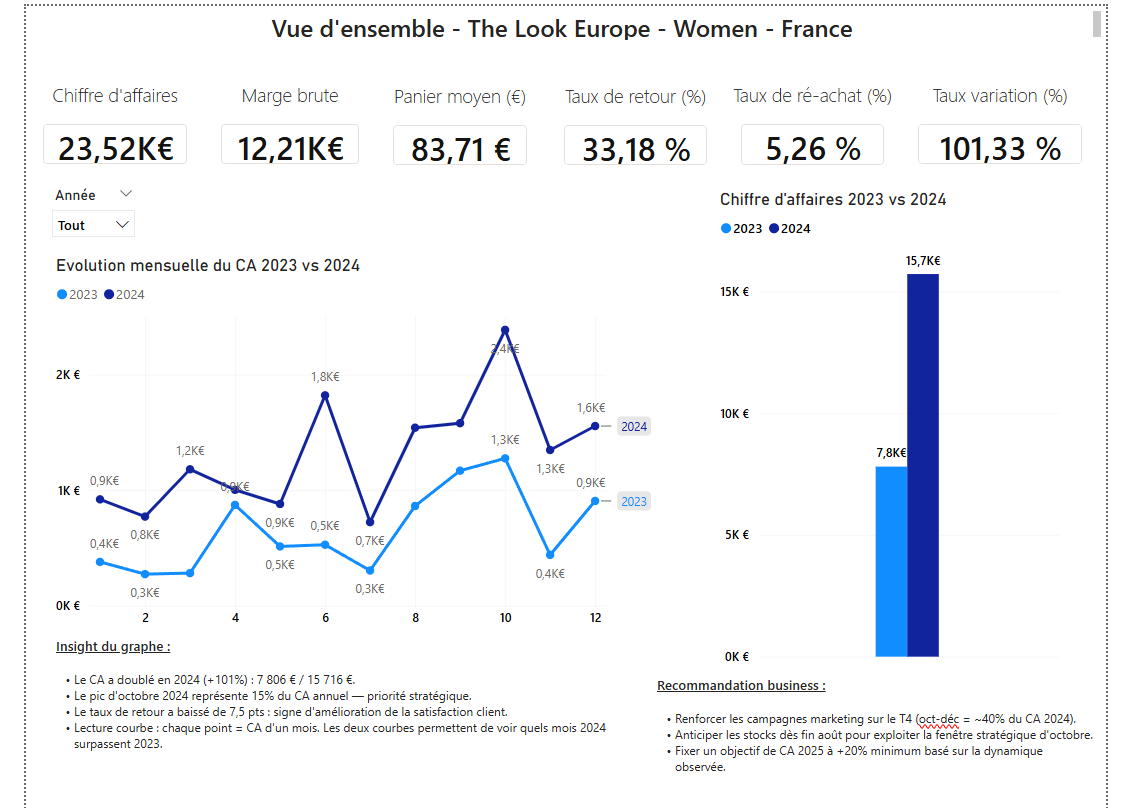

The dashboard page shown, as its layout file describes it:
{"tool":"powerbi","page":{"name":"Vue ensemble","canvas":[1080,1920],"ordinal":0},"visuals":[{"type":"cardVisual","title":"Chiffre d''affaires","fields":{"Data":["Mesures.001_CA"]},"box":[0,71,178,104],"z":0},{"type":"cardVisual","title":"Marge brute","fields":{"Data":["Mesures.002_Marge_brute"]},"box":[178,71,172,104],"z":1000},{"type":"cardVisual","title":"Panier moyen (€)","fields":{"Data":["Mesures.003_Panier_moyen"]},"box":[350,72,168,104],"z":2000},{"type":"cardVisual","title":"Taux de retour (%)","fields":{"Data":["Mesures.004_Taux_retour"]},"box":[521,72,177,104],"z":3000},{"type":"cardVisual","title":"Taux de ré-achat (%)","fields":{"Data":["Mesures.005_Taux_reachat"]},"box":[698,71,177,105],"z":4000},{"type":"slicer","fields":{"Values":["thelook_ventes.Année"]},"box":[16,176,103,65],"z":5000},{"type":"lineChart","title":"Evolution mensuelle du CA 2023 vs 2024","fields":{"Category":["Calendrier.Nom Mois"],"Y":["Mesures.001_CA"],"Series":["thelook_ventes.Année"]},"box":[25,249,605,381],"z":6000},{"type":"textbox","box":[25,626,594,129],"z":7000},{"type":"clusteredColumnChart","title":"Chiffre d''affaires 2023 vs 2024","fields":{"Y":["Mesures.001_CA"],"Series":["thelook_ventes.Année"]},"box":[689,183,349,482],"z":8000},{"type":"textbox","box":[0,0,1080,39],"z":9000},{"type":"textbox","box":[626,665,446,114],"z":10000},{"type":"cardVisual","title":"Taux variation (%)","fields":{"Data":["Mesures.014_Var%"]},"box":[875,71,198,104],"z":11000}]}

Visuals, with their boxes on the page's 1080x1920 design canvas (x1, y1, x2, y2). These are canvas units, not pixel positions in the 1146x808 screenshot, which may show the page scaled, cropped or inside an application window:
"Chiffre d''affaires" cardVisual: x1=0 y1=71 x2=178 y2=175
"Marge brute" cardVisual: x1=178 y1=71 x2=350 y2=175
"Panier moyen (€)" cardVisual: x1=350 y1=72 x2=518 y2=176
"Taux de retour (%)" cardVisual: x1=521 y1=72 x2=698 y2=176
"Taux de ré-achat (%)" cardVisual: x1=698 y1=71 x2=875 y2=176
slicer - thelook_ventes.Année: x1=16 y1=176 x2=119 y2=241
"Evolution mensuelle du CA 2023 vs 2024" lineChart: x1=25 y1=249 x2=630 y2=630
textbox: x1=25 y1=626 x2=619 y2=755
"Chiffre d''affaires 2023 vs 2024" clusteredColumnChart: x1=689 y1=183 x2=1038 y2=665
textbox: x1=0 y1=0 x2=1080 y2=39
textbox: x1=626 y1=665 x2=1072 y2=779
"Taux variation (%)" cardVisual: x1=875 y1=71 x2=1073 y2=175
